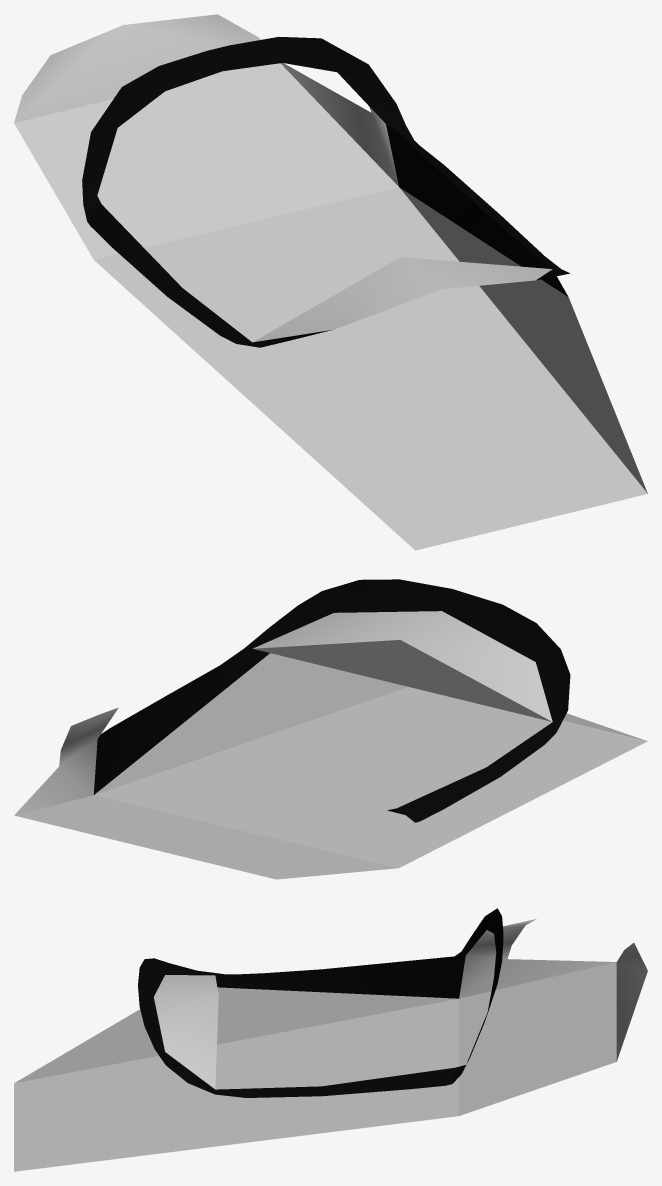
Rendered from VL3_cockpit_lod6.gltf.
The picture shows the model from 3 angles, top to bottom: view 1: azimuth 30°, elevation 25°; view 2: azimuth 150°, elevation 25°; view 3: azimuth 270°, elevation 25°; orthographic projection. The views are drawn at different scales.
Parts seen in each view (by area): view 1: InteriorShell, Window_frame, Main_Panel; view 2: InteriorShell, Window_frame, Main_Panel; view 3: InteriorShell, Window_frame, Main_Panel.
Boxes of the visible parts, <box> form: InteriorShell: <box>14,14,647,550</box>; Window_frame: <box>82,37,570,347</box>; Main_Panel: <box>253,257,552,342</box>; InteriorShell: <box>14,653,647,879</box>; Window_frame: <box>93,579,570,822</box>; Main_Panel: <box>253,611,552,721</box>; InteriorShell: <box>14,919,647,1171</box>; Window_frame: <box>138,908,503,1097</box>; Main_Panel: <box>154,975,218,1088</box>.
Bounding box in the file's own units: 1.11 × 0.7752 × 2.34.
